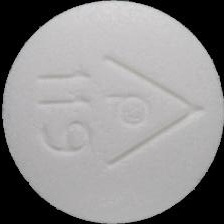55154-6815: (0, 0, 224, 224)
